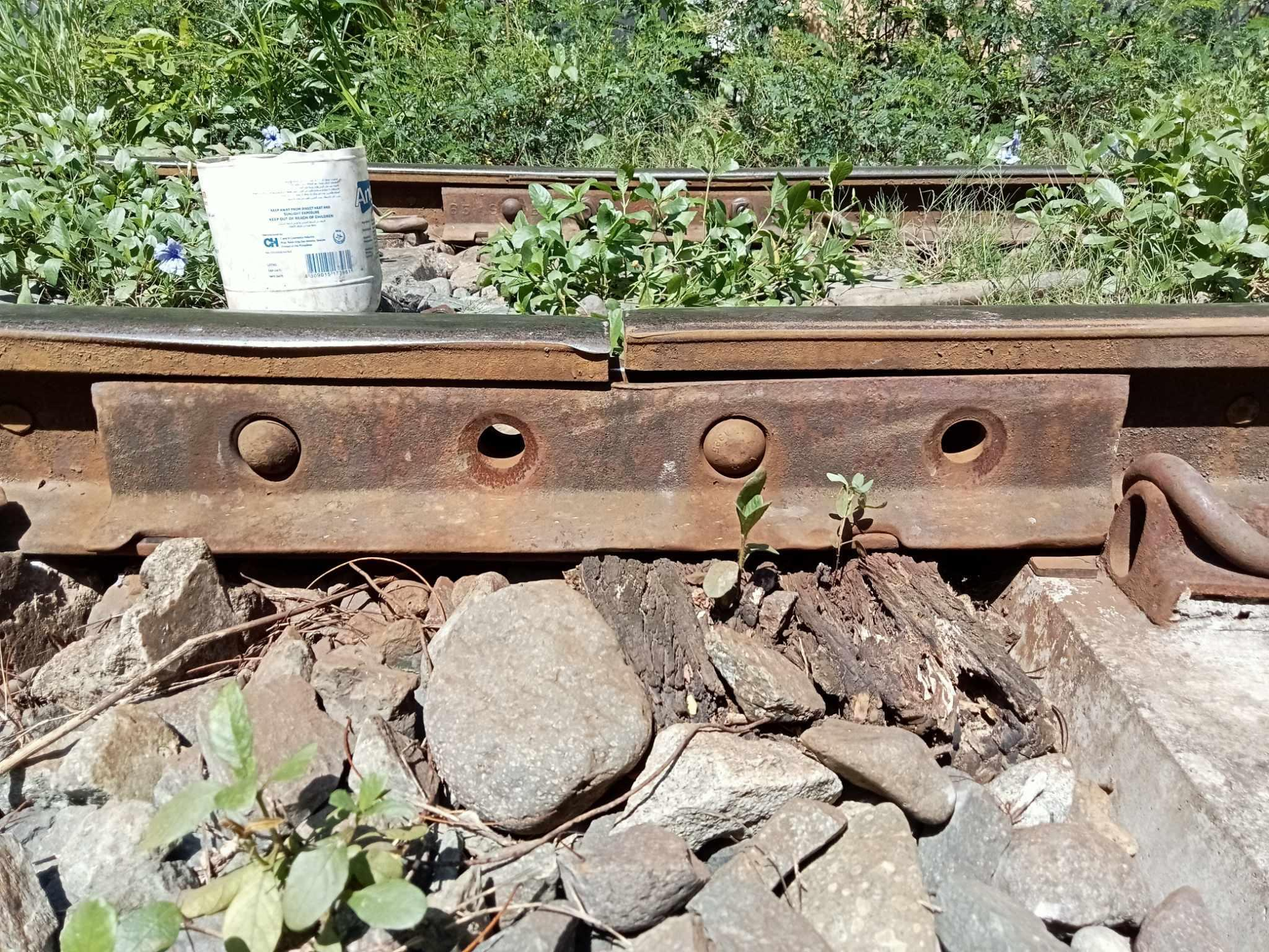railway-gap: (545, 282, 679, 418)
